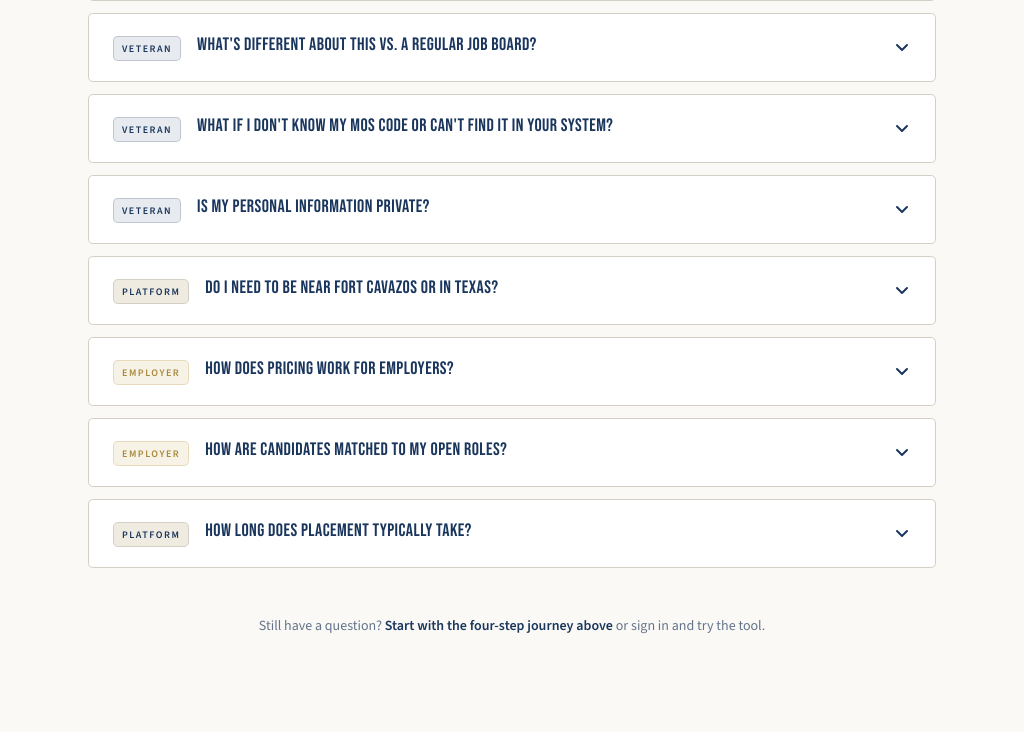
Test: LandingFAQ › exposes the "free during the current beta" line on the employer pricing question
(page scrolled)
// The employer pricing answer sits behind its own accordion — open it.
Click the button "EMPLOYER How does pricing work for employers?".
click(151, 373)  # box [89,338,935,405]
(page scrolled)
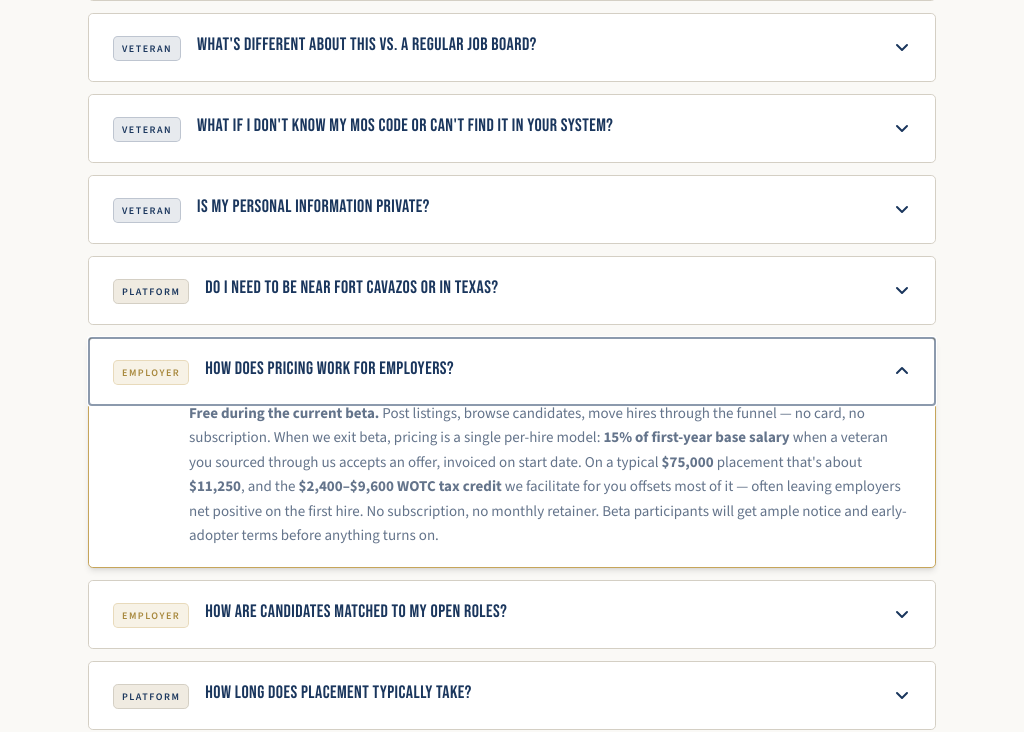
Check: the text "Free during the current beta." is shown, box [189,403,379,423]
